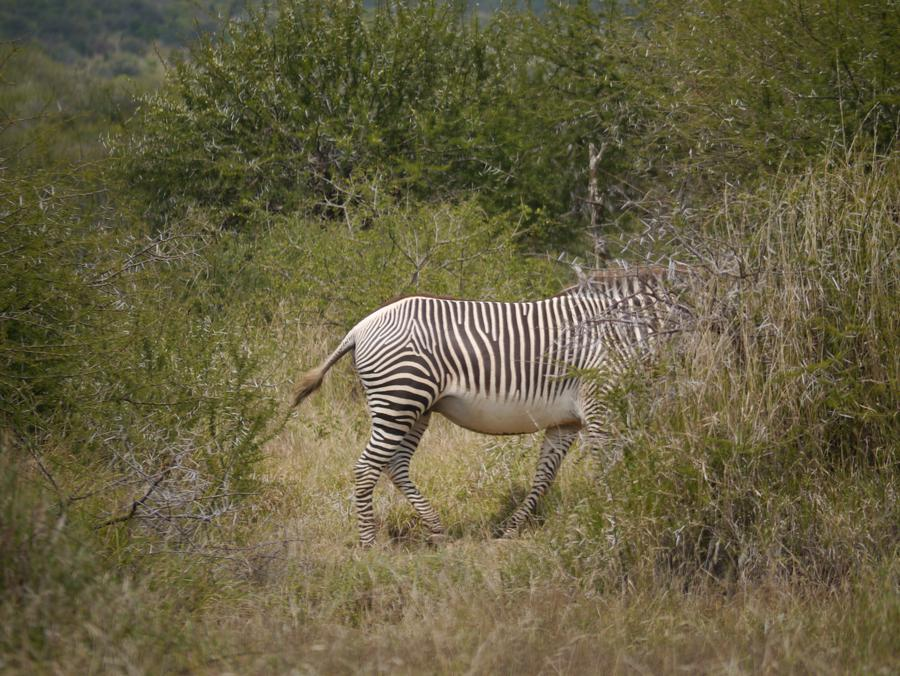zebra_grevys: (341, 296, 594, 407)
